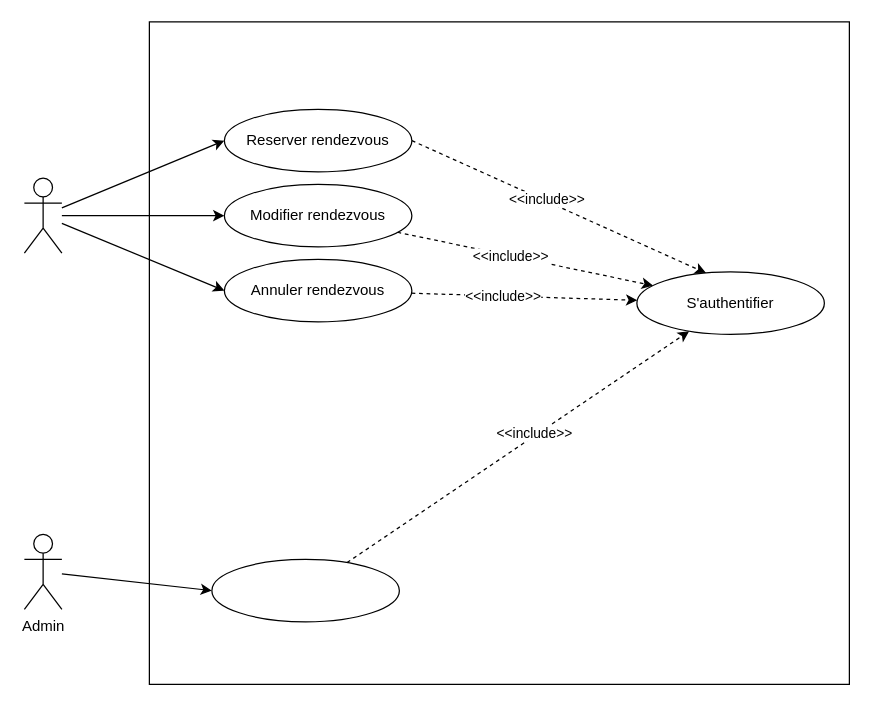
Some shapes in this 871 by 706 pixel diagram are drawn without their labels. The shapes that lost their labels are listed below. From the top down, each one's centre as x and y in pixels, then its label:
At (42,215): "client".
At (305,590): "Gérer RDV".
